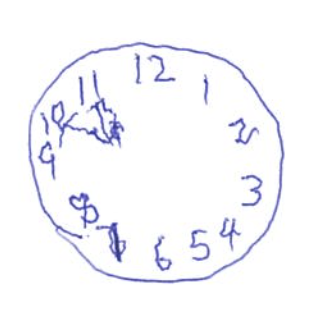1: (201, 72, 211, 106)
10: (40, 101, 65, 135)
11: (76, 70, 103, 107)
12: (128, 54, 177, 86)
2: (226, 118, 262, 144)
3: (239, 173, 263, 208)
4: (219, 217, 243, 251)
5: (189, 228, 212, 263)
6: (153, 233, 173, 273)
7: (96, 223, 124, 264)
8: (68, 190, 100, 228)
9: (37, 141, 58, 181)
contour: (26, 40, 286, 285)
